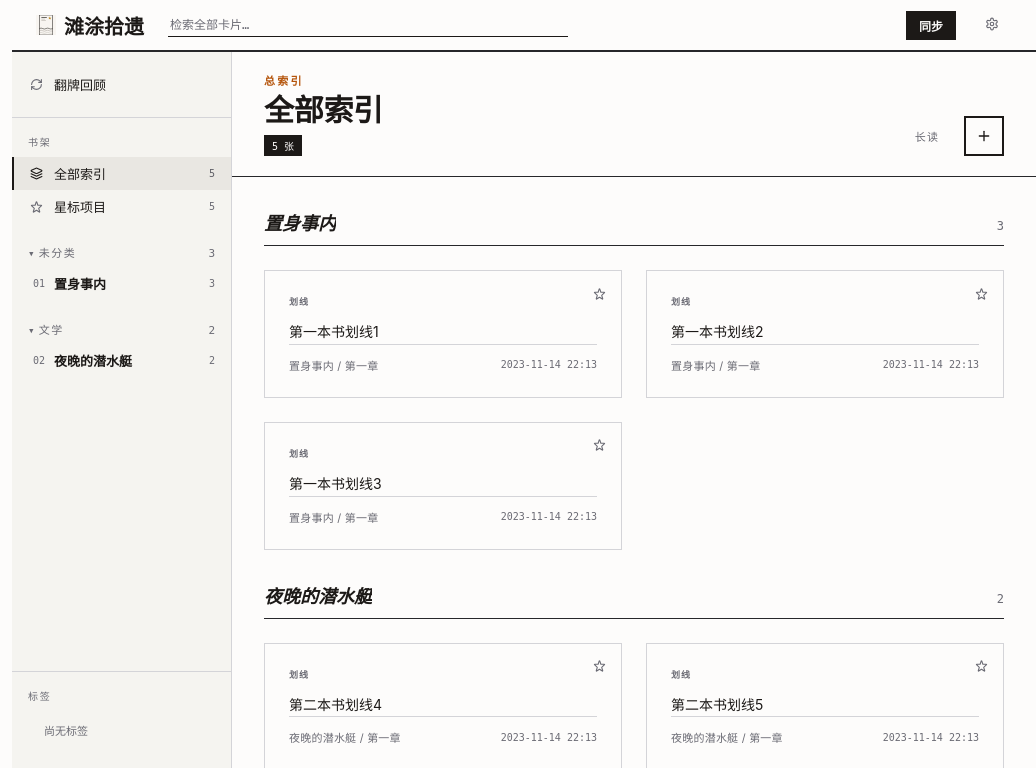
卡片墙滚动位置 › 设置往返回到同一面墙时保留滚动位置
(page scrolled)
expect the button "02 夜晚的潜水艇 2" is shown: met, box 12,344 -> 231,377
Step 1. Click the button named "设置" → (992, 25), box 972,10 -> 1012,40
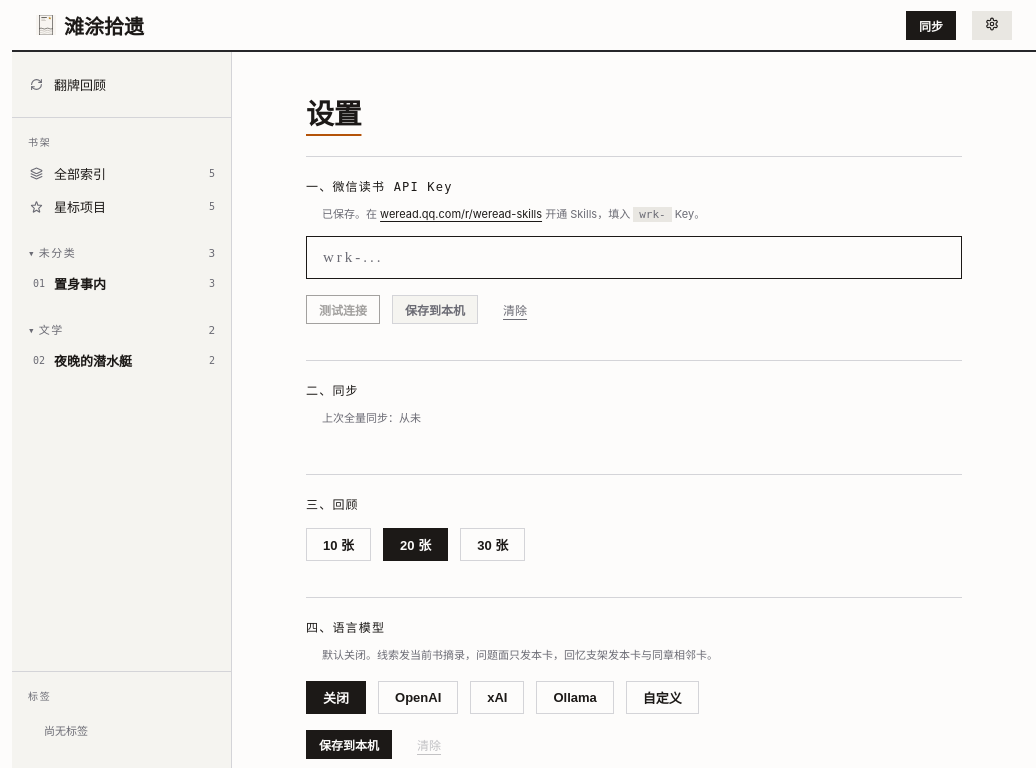
expect the heading "设置" is shown: met, box 306,99 -> 362,130
Step 2. Click the button named "设置" → (992, 25), box 972,10 -> 1012,40
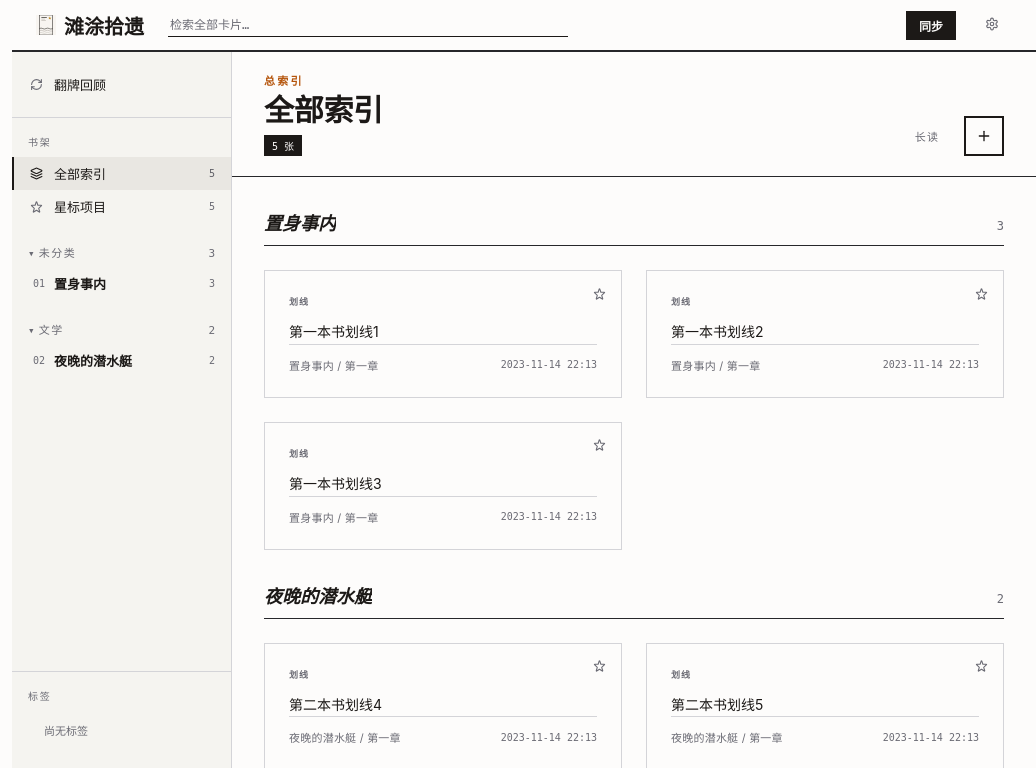
expect the heading "全部索引" is shown: met, box 264,94 -> 383,127
